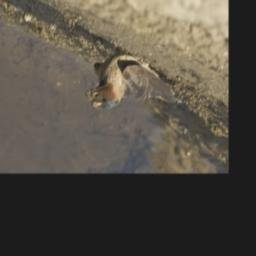Swallow: (87, 51, 179, 111)
